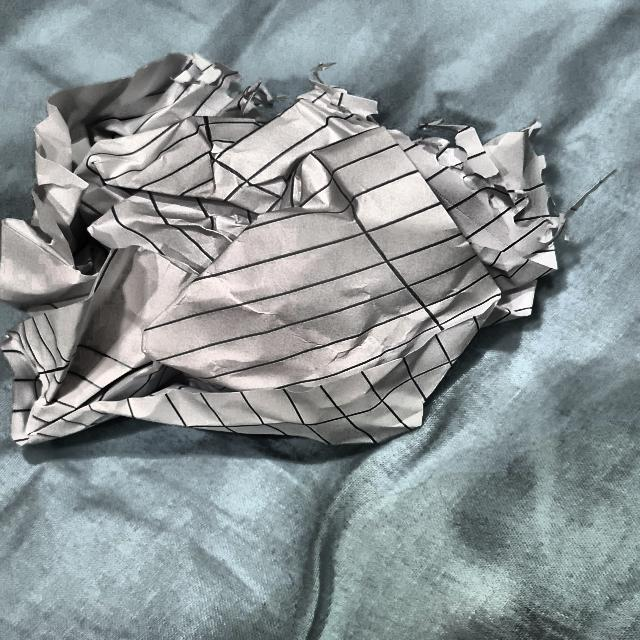paper: (0, 74, 532, 445)
